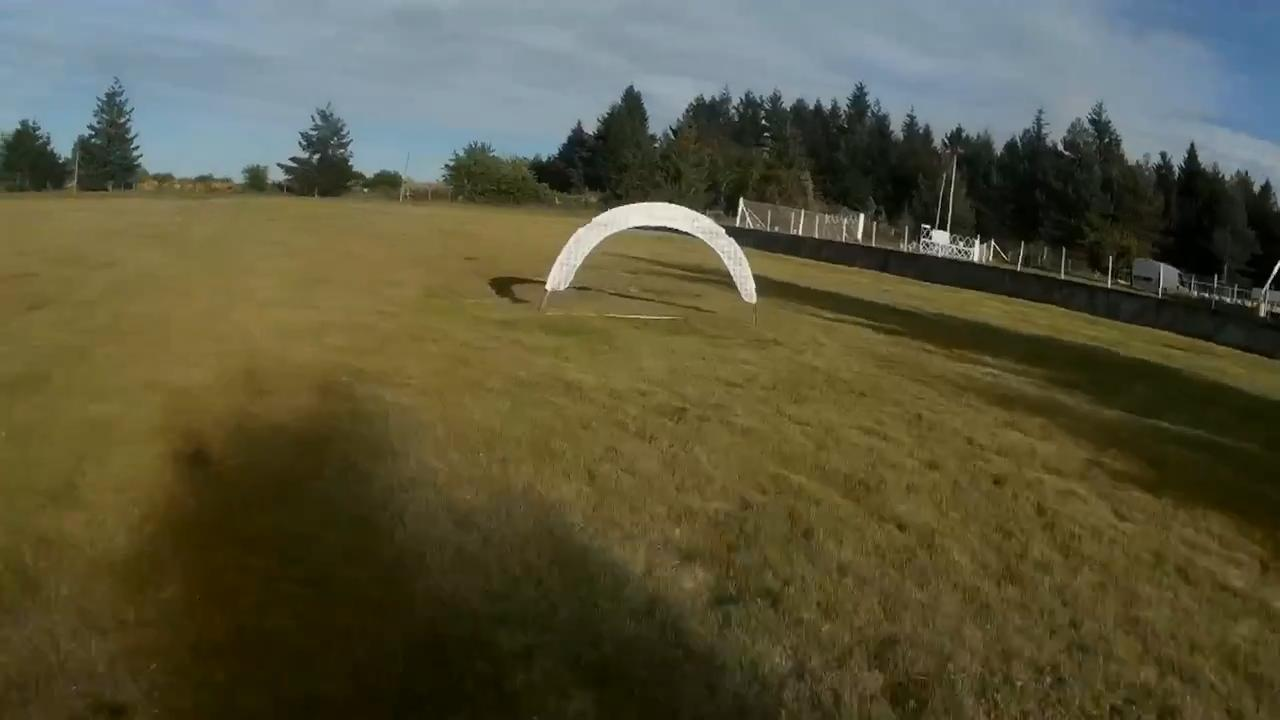gate: (544, 200, 756, 304)
